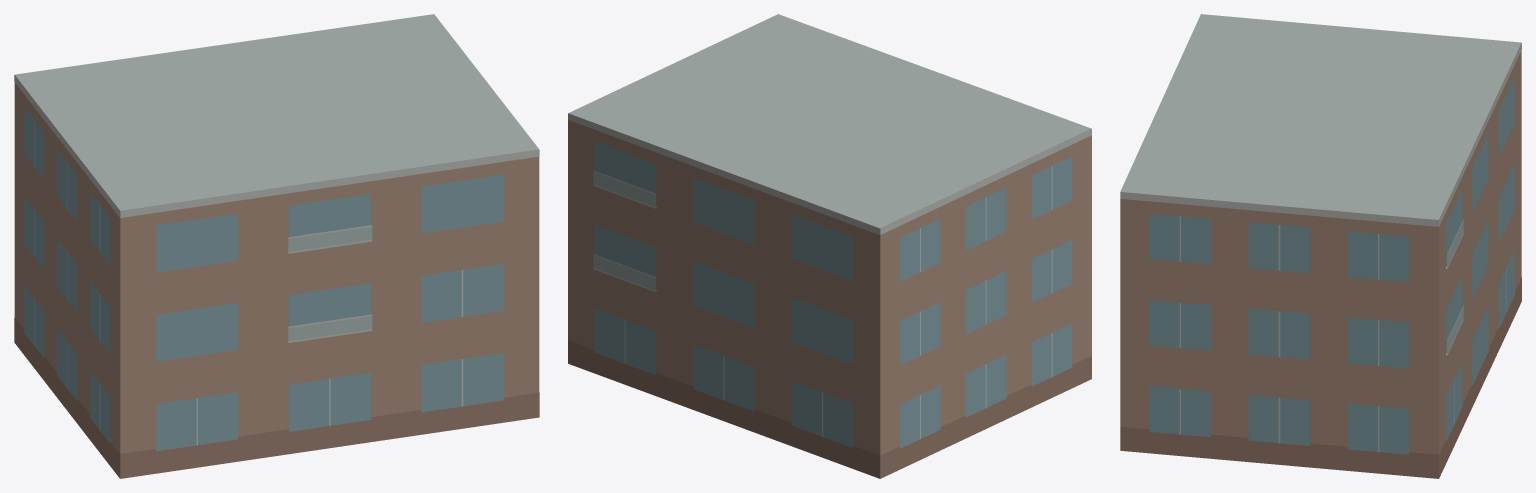
File: survey-upis-32652860.glb
3 renders of one model, left to right at view 1: azimuth 30°, elevation 25°; view 2: azimuth 150°, elevation 25°; view 3: azimuth 270°, elevation 25°, orthographic. The views are drawn at different scales.
Visible parts, largest first — view 1: survey-upis-32652860.tmp; view 2: survey-upis-32652860.tmp; view 3: survey-upis-32652860.tmp.
Part boxes in pixels (x1=…): survey-upis-32652860.tmp: x1=14, y1=14, x2=539, y2=478; survey-upis-32652860.tmp: x1=568, y1=14, x2=1091, y2=478; survey-upis-32652860.tmp: x1=1120, y1=14, x2=1521, y2=478.
Size of the model in its own units: 15.64 by 9.15 by 12.88.
